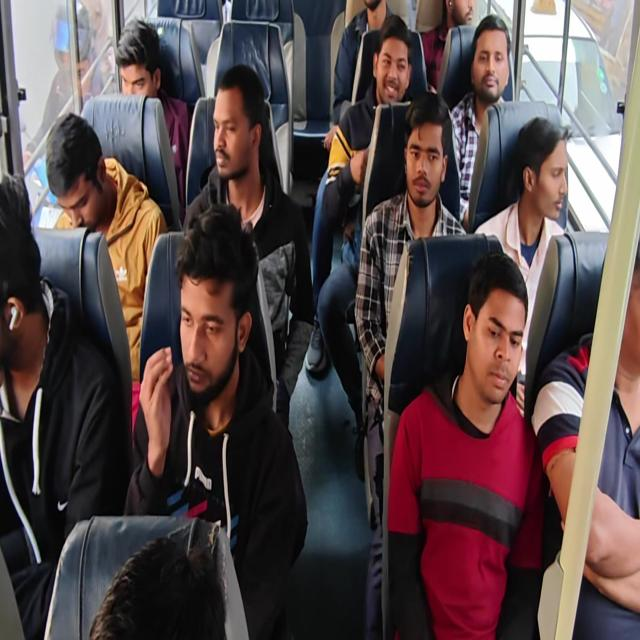person: (0, 179, 45, 373), (178, 258, 238, 399), (471, 286, 530, 417), (50, 120, 110, 228), (214, 80, 256, 186), (402, 111, 444, 205), (525, 130, 568, 220), (114, 25, 158, 107), (373, 28, 406, 102), (471, 32, 503, 96), (449, 0, 479, 33), (360, 0, 387, 29)
